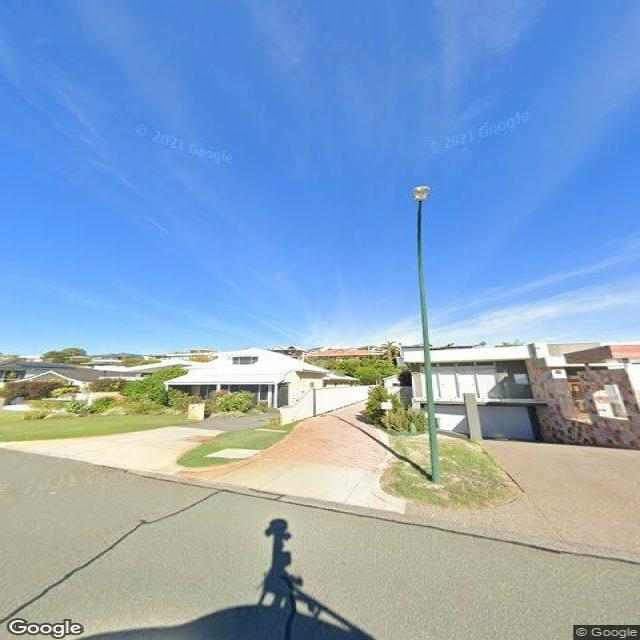steel-pole: (417, 245, 442, 483)
streetlight: (412, 184, 432, 261)
